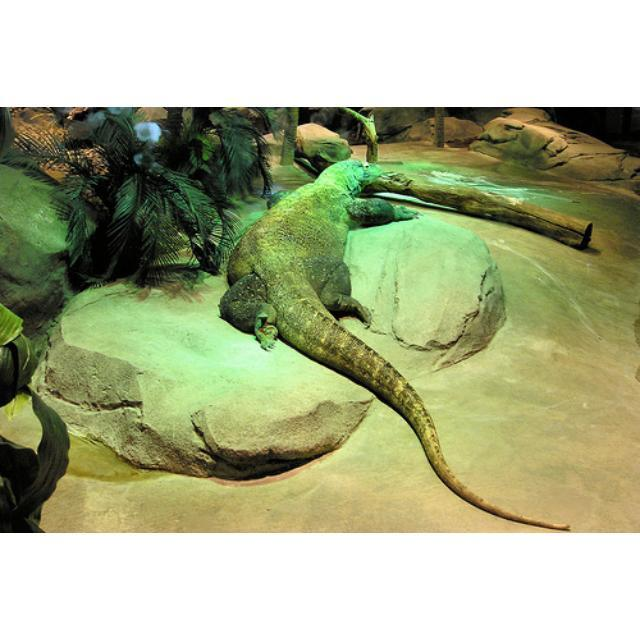KomodoDragon: (214, 157, 571, 529)
